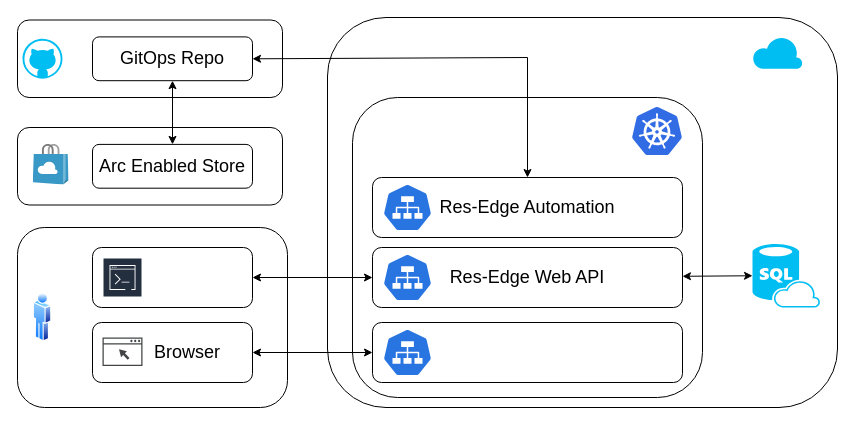
The diagram is 855 pixels wide and 425 high, and some of its shapes have lost their labels. Each missing label, with the box of its shape:
CLI: (92, 246, 252, 308)
Res-Edge Web UI: (372, 322, 682, 382)
